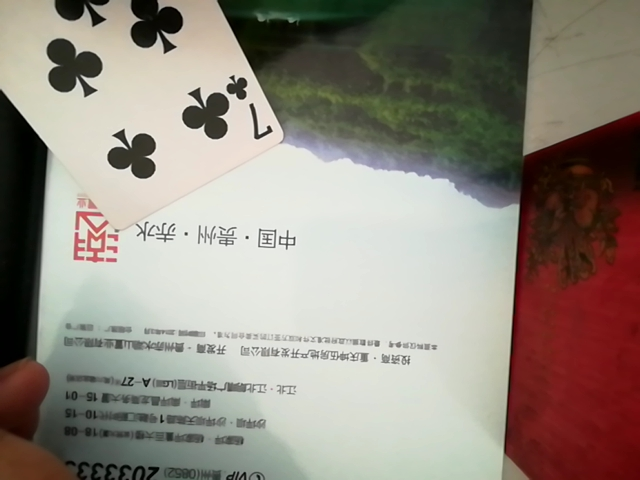mh 7: (13, 9, 268, 270)
